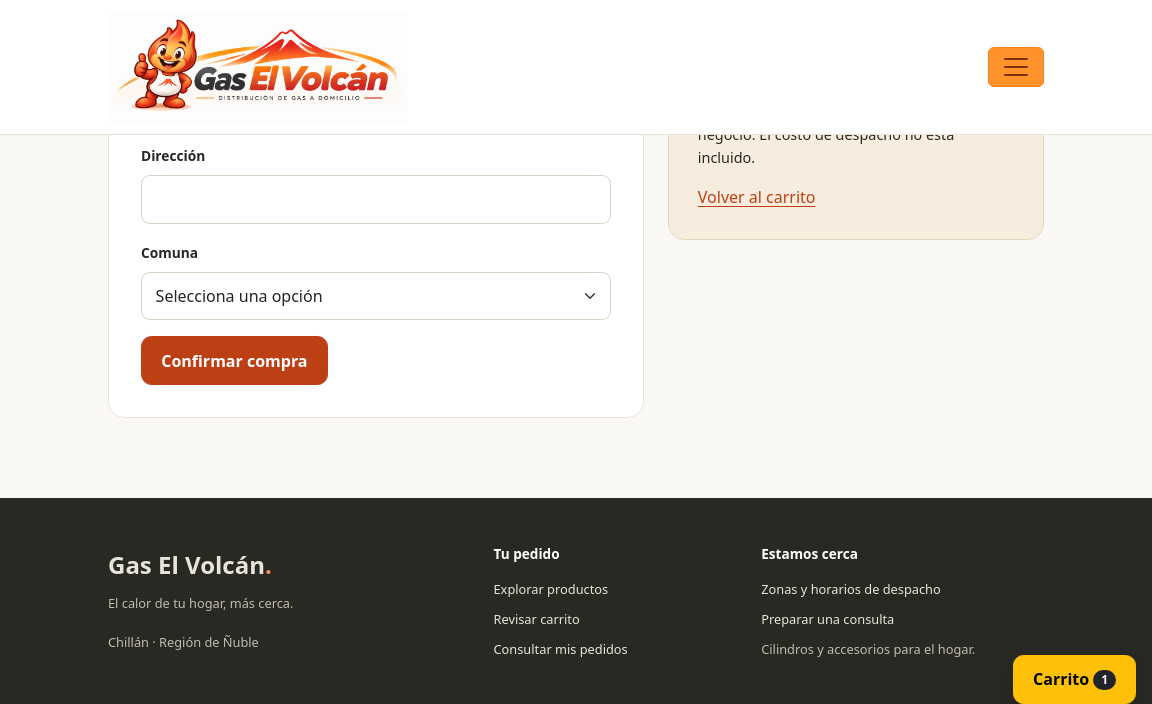
Scenario: rechaza checkout con datos de entrega inválidos
The width and height of the screenshot is (1152, 704).
(page scrolled)
Click the button "Confirmar compra" at (234, 361), box [141,336,328,385]
(page scrolled)
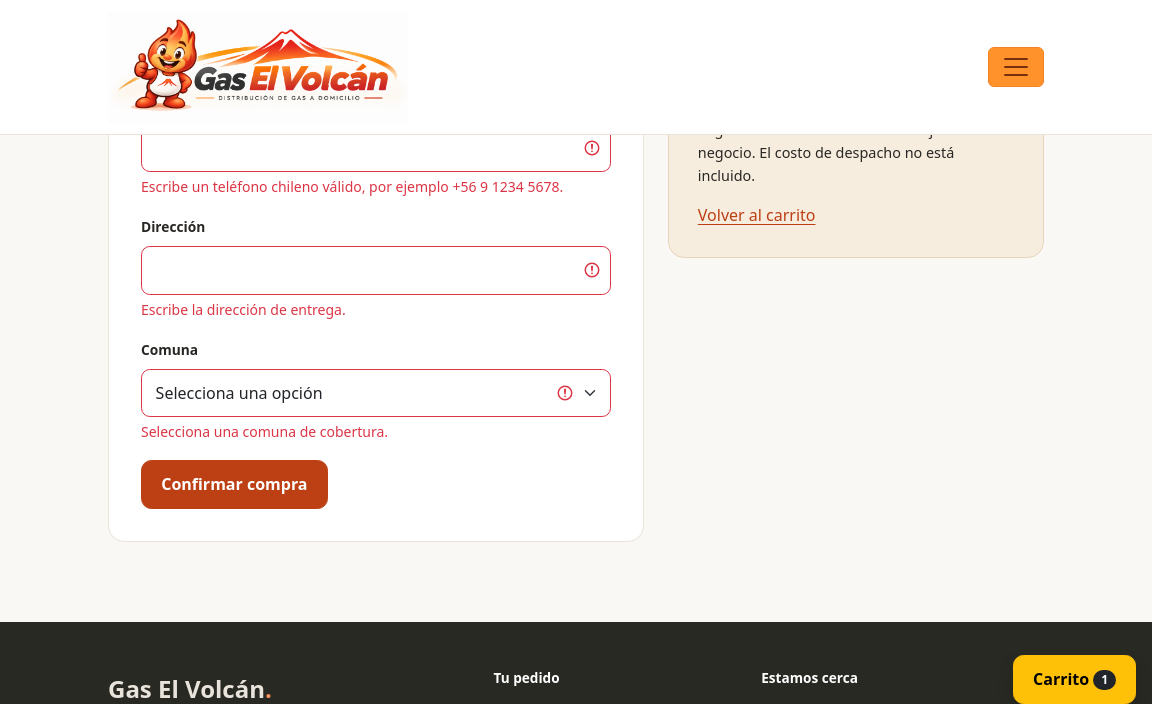
Expected: the text "Escribe la dirección de entrega." is shown, [141,300,346,319]
